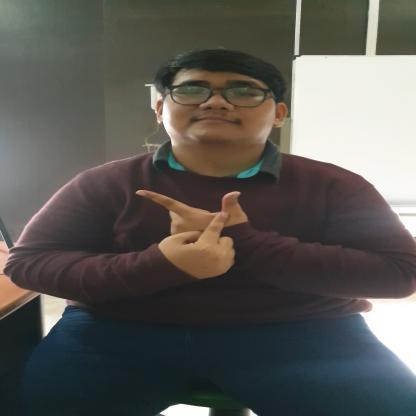Y: (134, 186, 250, 280)
